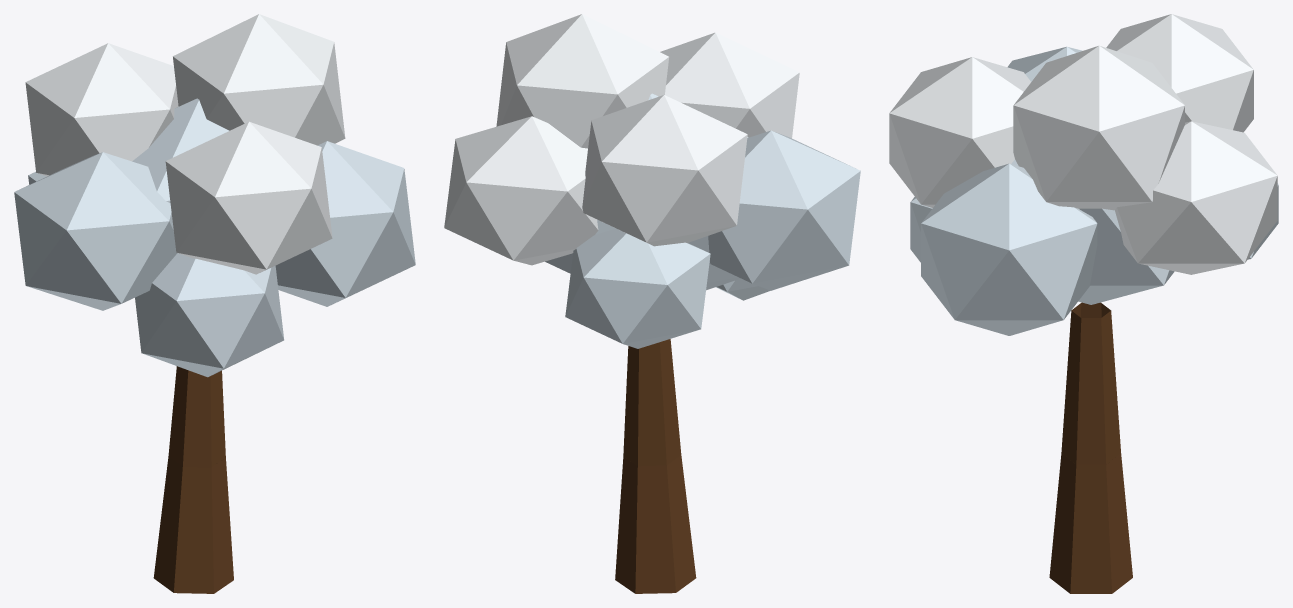
Rendered from tree-snowy-lo.glb.
The picture shows the model from 3 angles, left to right: view 1: azimuth 30°, elevation 25°; view 2: azimuth 150°, elevation 25°; view 3: azimuth 270°, elevation 25°; orthographic projection. The views are drawn at different scales.
Parts seen in each view (by area): view 1: SnowyLo_Crown, SnowyLo_Trunk; view 2: SnowyLo_Crown, SnowyLo_Trunk; view 3: SnowyLo_Crown, SnowyLo_Trunk.
Boxes of the visible parts, bbox=[...] form: SnowyLo_Crown: bbox=[14, 14, 415, 377]; SnowyLo_Trunk: bbox=[153, 366, 233, 593]; SnowyLo_Crown: bbox=[444, 14, 860, 348]; SnowyLo_Trunk: bbox=[615, 339, 696, 593]; SnowyLo_Crown: bbox=[889, 14, 1278, 335]; SnowyLo_Trunk: bbox=[1049, 302, 1132, 593].
Bounding box in the file's own units: 2.12 × 3.15 × 1.96.
